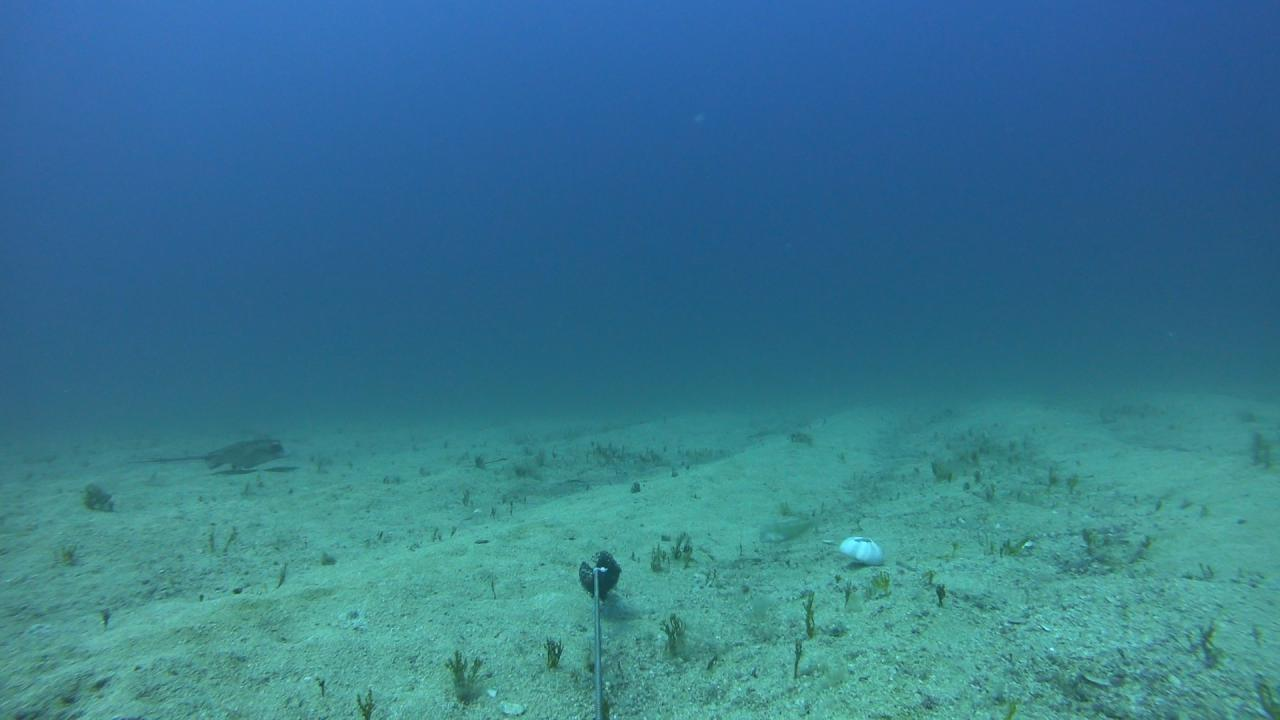dasyatis: (132, 436, 293, 469)
